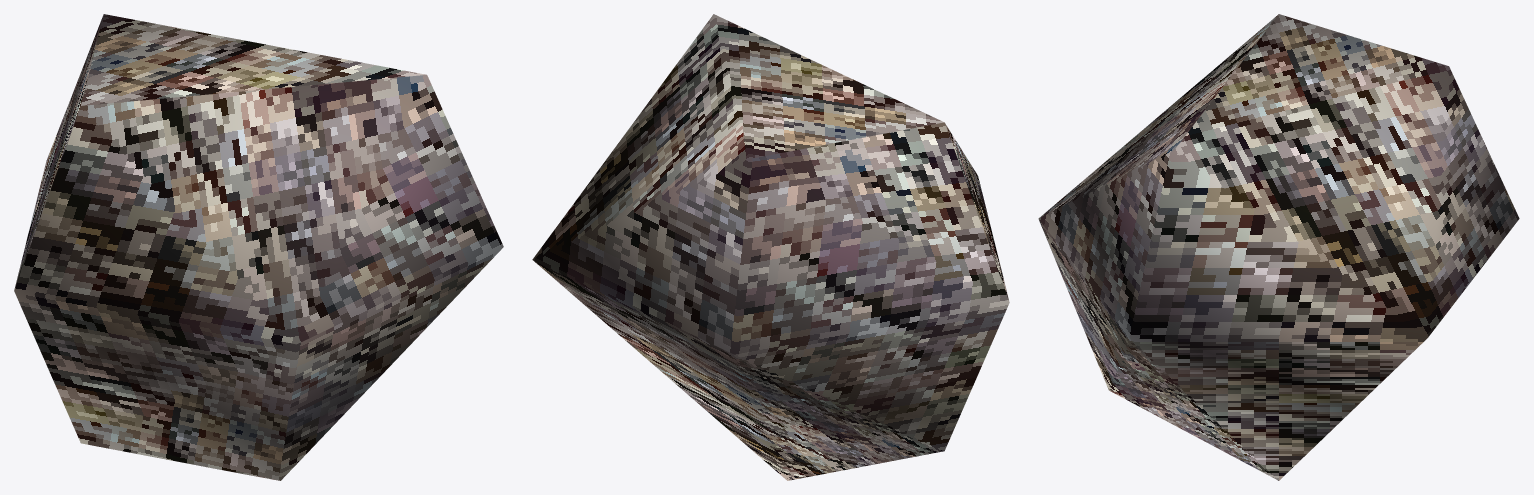
Rendered from rock_tiny_purp_l0.fbx.
3 views of the same model, side by side, from view 1: azimuth 30°, elevation 25°; view 2: azimuth 150°, elevation 25°; view 3: azimuth 270°, elevation 25° (orthographic). The views are drawn at different scales.
Visible parts, largest first — view 1: mesh_node; view 2: mesh_node; view 3: mesh_node.
Boxes of the visible parts, x1,y1,x2,y2 form: mesh_node: [14, 14, 503, 480]; mesh_node: [532, 14, 1009, 480]; mesh_node: [1038, 14, 1519, 480].
Bounding box in the file's own units: 0.4341 × 0.4096 × 0.4564.
